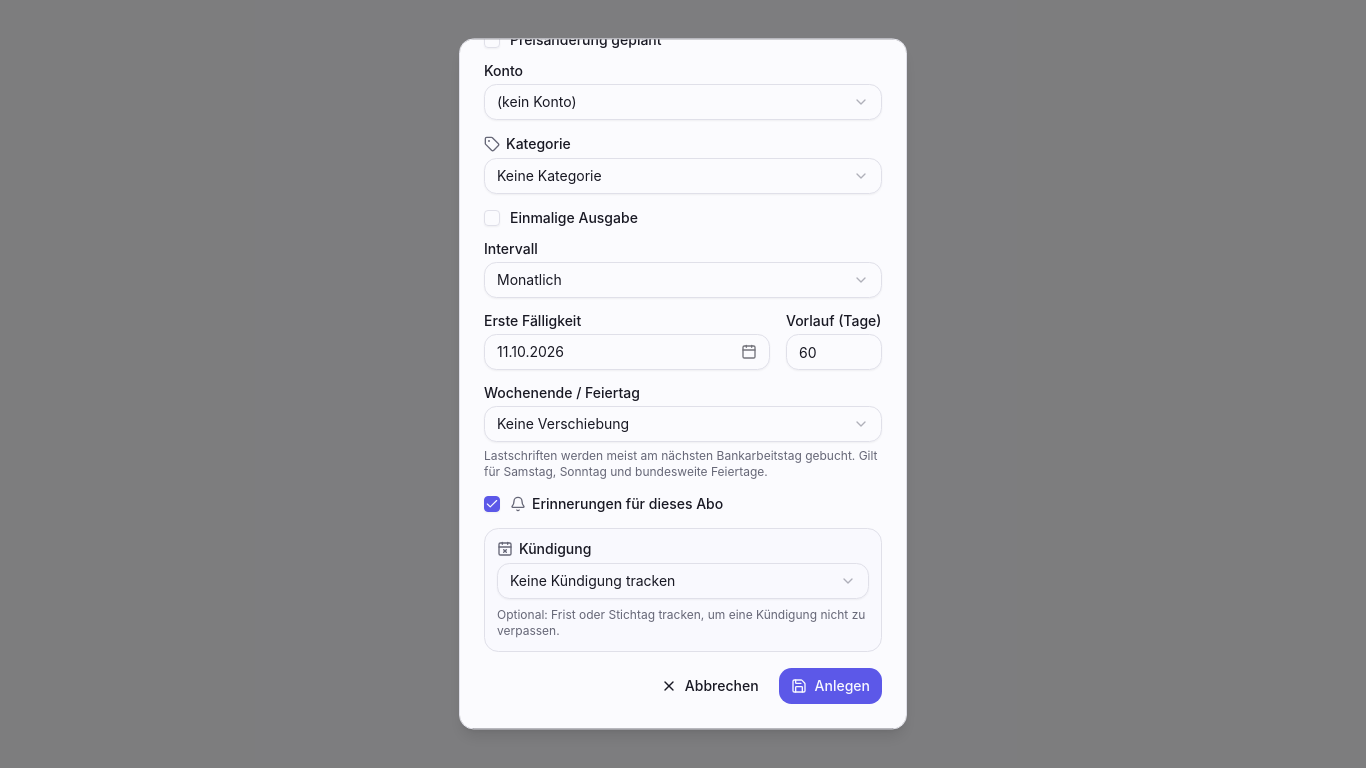
Scenario: SubscriptionDialog › räumt den Validierungs-Fehler weg, sobald der User wieder tippt
(page scrolled)
Click the button "Anlegen" at (830, 686), box [779,668,882,704]
(page scrolled)
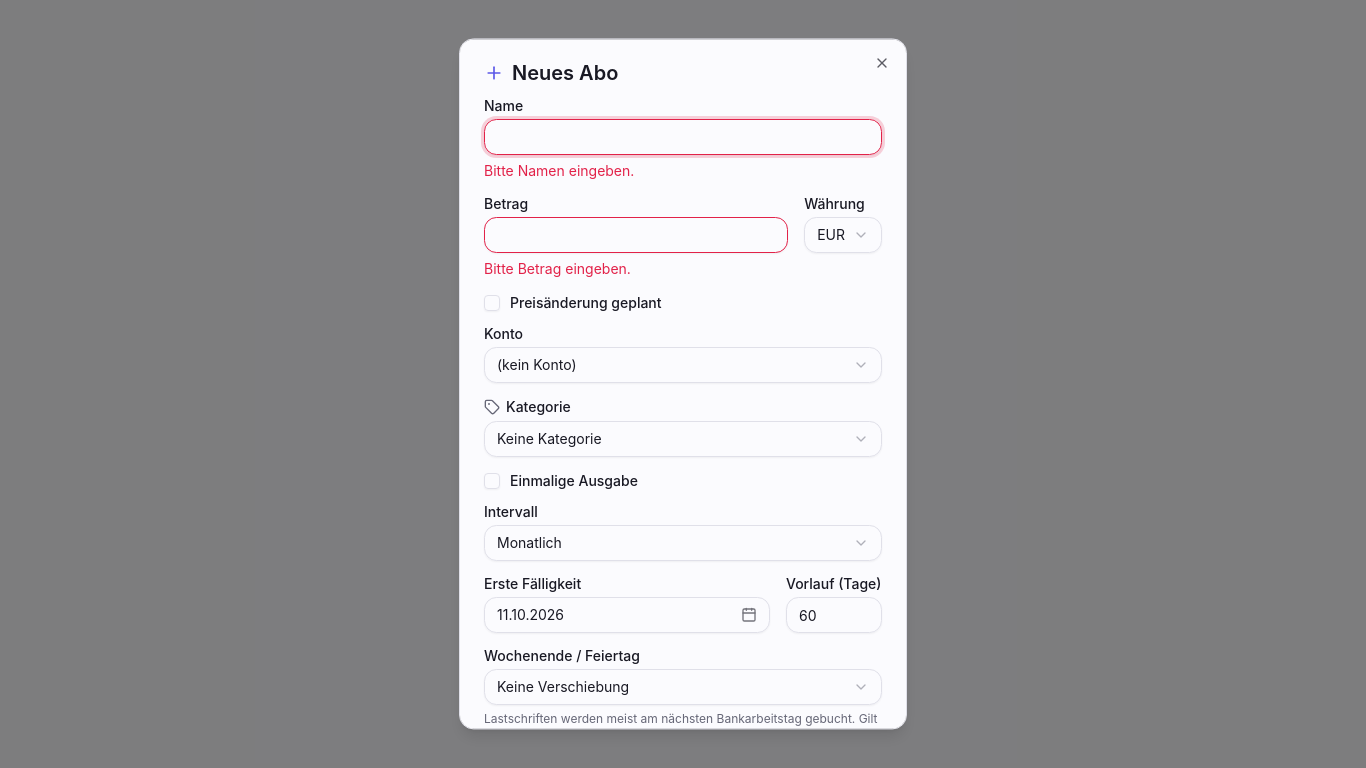
Expected: the text "Bitte Namen eingeben." is shown, [484,162,634,179]
Type "X" into the field labelled "Name" at (683, 137), box [484,119,882,155]
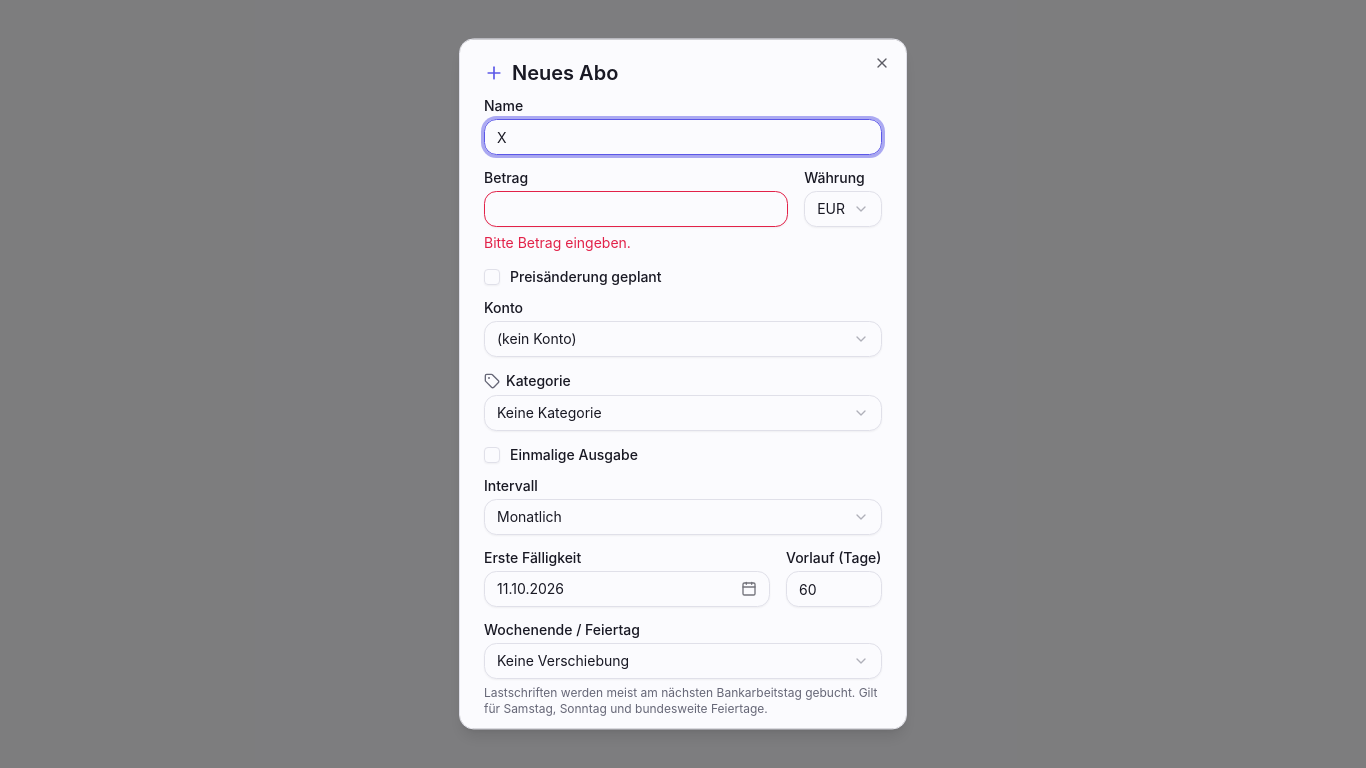
Expected: the text "Bitte Namen eingeben." is gone
